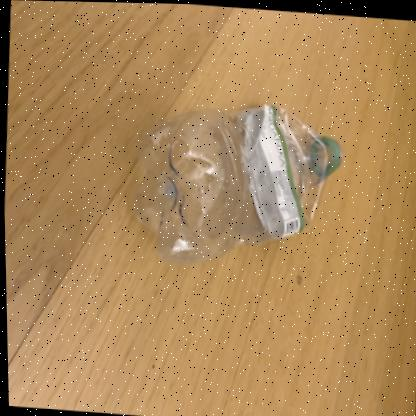Plastic: (131, 103, 341, 262)
